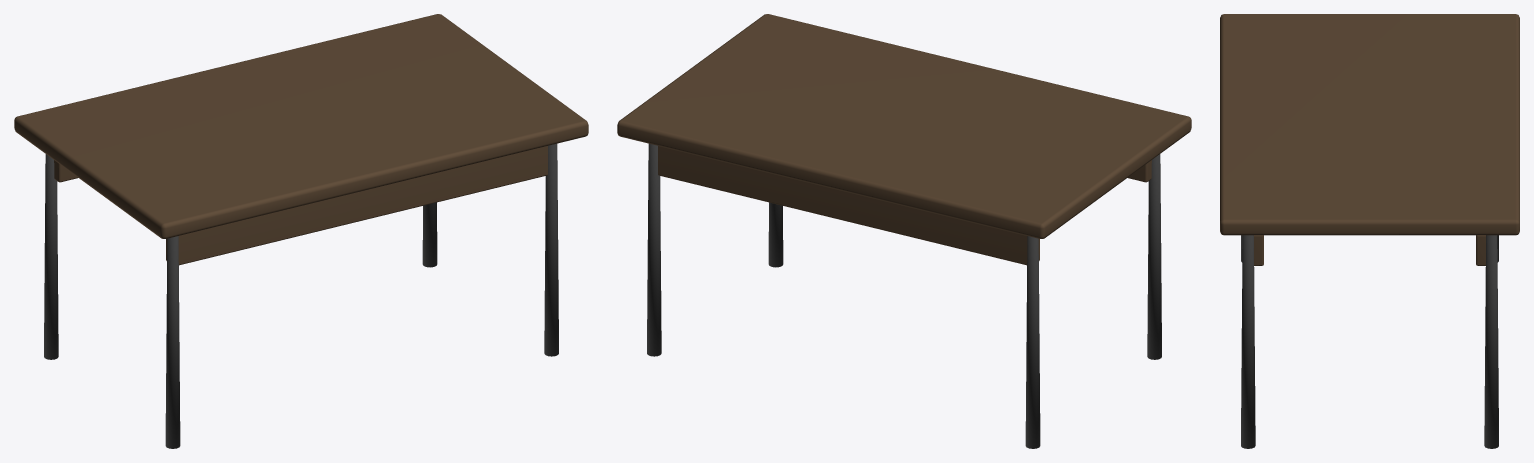
Rendered from table.glb.
The picture shows the model from 3 angles, left to right: view 1: azimuth 30°, elevation 25°; view 2: azimuth 150°, elevation 25°; view 3: azimuth 270°, elevation 25°; orthographic projection.
Parts seen in each view (by area): view 1: top; view 2: top; view 3: top.
Part boxes in pixels (box(x1,y1,x2,y2)): top: box(14, 14, 588, 448); top: box(617, 14, 1191, 448); top: box(1220, 14, 1519, 448).
Bounding box in the file's own units: 1.4 × 0.74 × 0.85.
